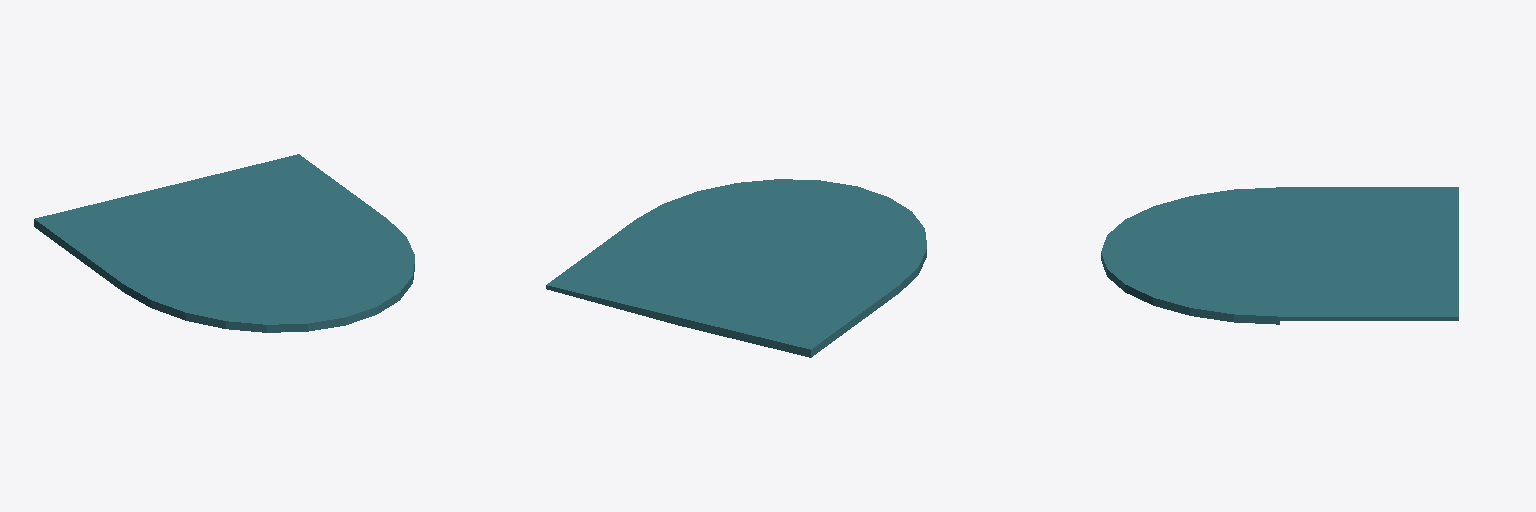
The model's file is Toilet-Mat.obj.
3 views of the same model, side by side, from view 1: azimuth 30°, elevation 25°; view 2: azimuth 150°, elevation 25°; view 3: azimuth 270°, elevation 25° (orthographic).
Visible parts, largest first — view 1: mergedBlocks; view 2: mergedBlocks; view 3: mergedBlocks.
Boxes of the visible parts, box(x1,y1,x2,y2) form: mergedBlocks: box(34, 154, 414, 332); mergedBlocks: box(546, 179, 926, 357); mergedBlocks: box(1101, 187, 1458, 324).
Size of the model in its own units: 1 by 0.0291 by 1.17.